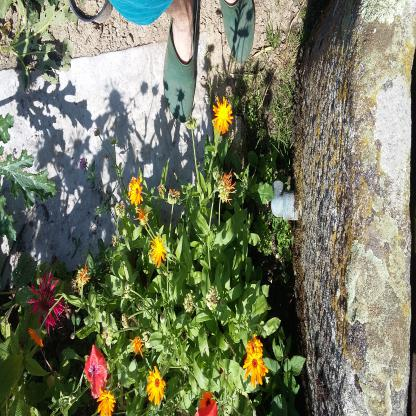marigold: (182, 280, 205, 323), (149, 29, 173, 65), (250, 9, 270, 51), (152, 52, 172, 84), (250, 146, 266, 182), (300, 0, 319, 27), (272, 210, 288, 241), (372, 66, 387, 92)
